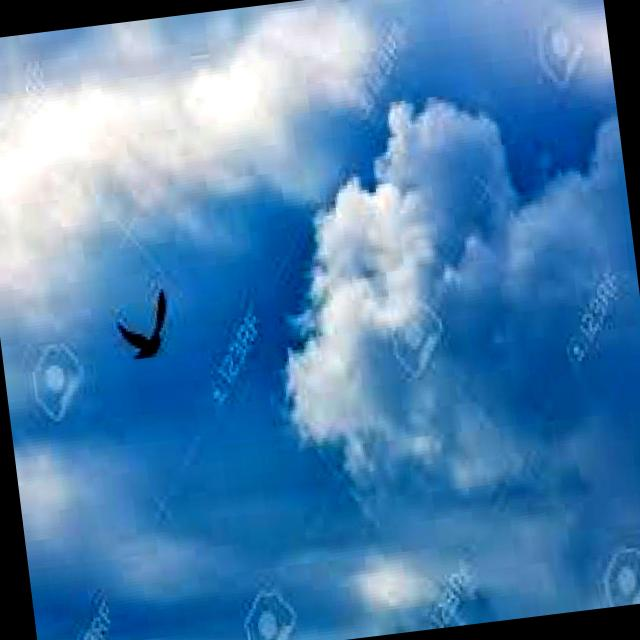bird: (112, 288, 176, 364)
